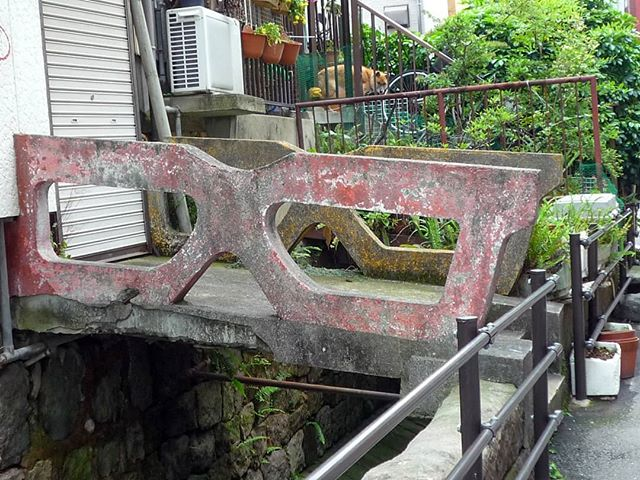animal: (311, 62, 393, 107)
bridge: (37, 127, 513, 408)
tree: (433, 1, 619, 156)
